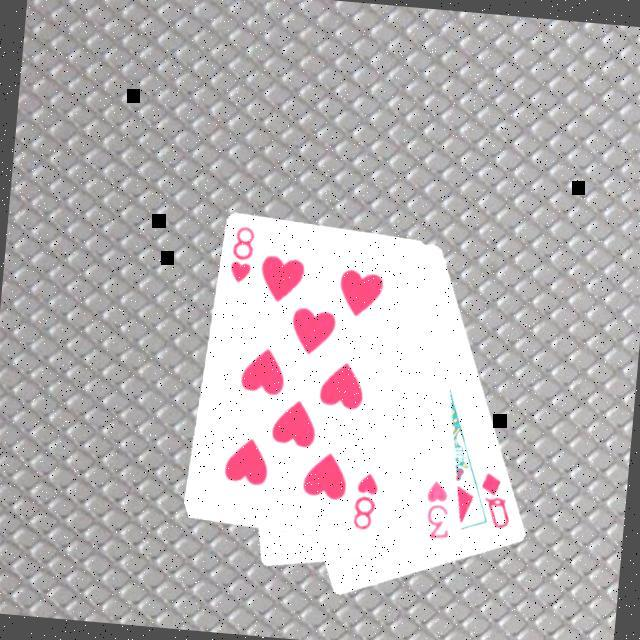3H: (419, 476, 456, 543)
8H: (348, 468, 381, 533), (225, 222, 258, 286)
QD: (473, 467, 516, 532)
